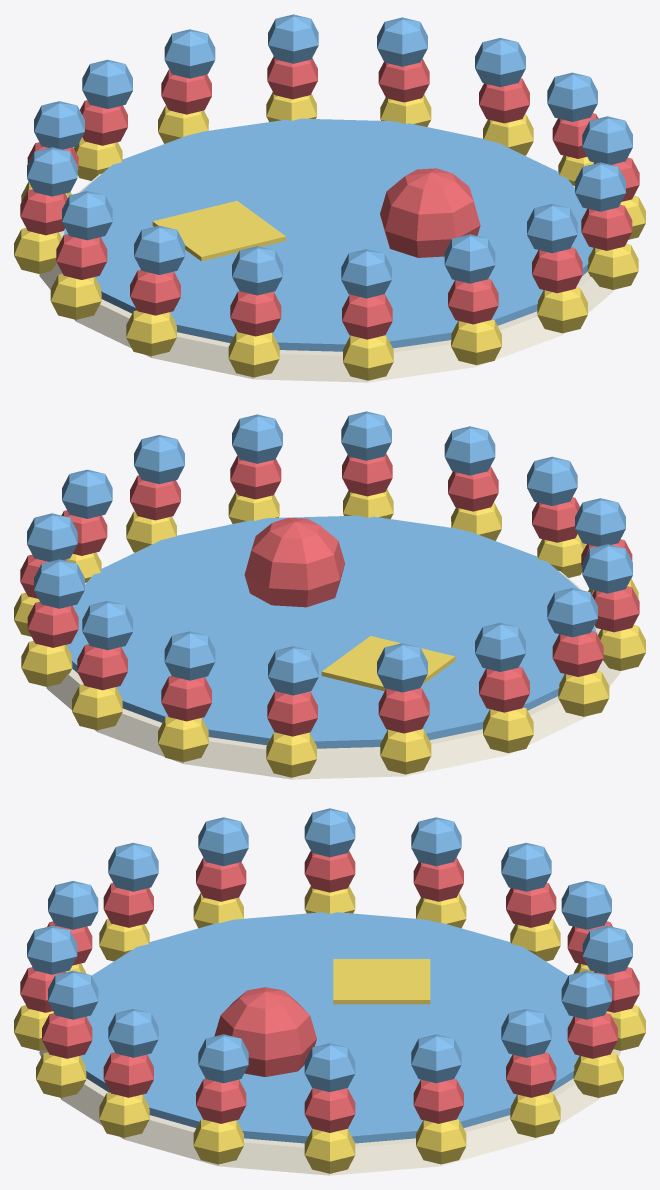
Rendered from lawn-mowing-simulator-kit-paddling-pool-cd5f5502__27409.glb.
The picture shows the model from 3 angles, top to bottom: view 1: azimuth 30°, elevation 25°; view 2: azimuth 150°, elevation 25°; view 3: azimuth 270°, elevation 25°; orthographic projection.
Visible parts, largest first — view 1: paddling-pool; view 2: paddling-pool; view 3: paddling-pool.
Boxes of the visible parts, x1,y1,x2,y2 form: paddling-pool: (14, 14, 645, 382); paddling-pool: (14, 411, 645, 779); paddling-pool: (14, 808, 645, 1175).
Size of the model in its own units: 1.98 by 0.4265 by 1.96.
